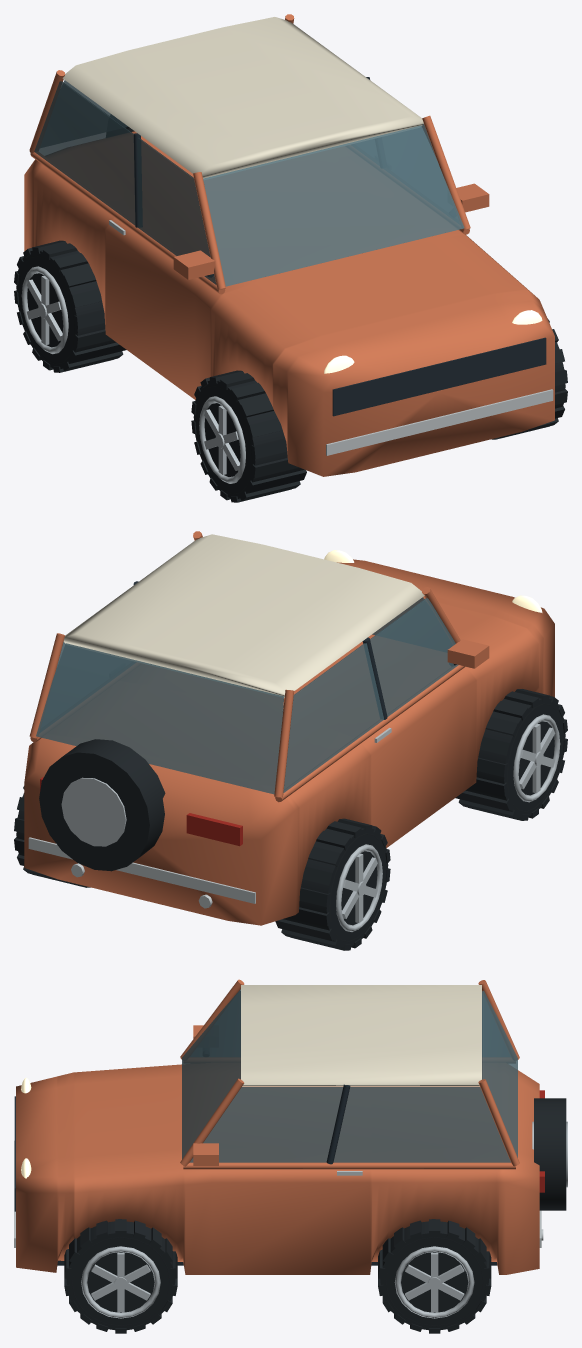
File: bronco.glb
3 renders of one model, top to bottom at view 1: azimuth 30°, elevation 25°; view 2: azimuth 150°, elevation 25°; view 3: azimuth 270°, elevation 25°, orthographic. The views are drawn at different scales.
Parts seen in each view (by area): view 1: exterior-paint, windows, secondary-paint, tire-front-left, tire-rear-left, black-trim, chrome, rim-front-left, rim-rear-left, tire-front-right, headlights; view 2: exterior-paint, windows, secondary-paint, rubber, tire-rear-left, tire-front-left, rims, chrome, rim-rear-left, rim-front-left, taillights, tire-rear-right (+1 smaller); view 3: exterior-paint, windows, secondary-paint, tire-front-right, tire-rear-right, rubber, rim-front-right, rim-rear-right, black-trim.
Part boxes in pixels (x1,y1,x2,y2): exterior-paint: (24, 14, 554, 476); windows: (34, 80, 464, 286); secondary-paint: (62, 17, 423, 179); tire-front-left: (191, 370, 306, 502); tire-rear-left: (14, 240, 126, 372); black-trim: (133, 77, 546, 416); chrome: (109, 220, 553, 455); rim-front-left: (199, 396, 245, 483); rim-rear-left: (21, 266, 68, 354); tire-front-right: (492, 318, 567, 439); headlights: (324, 310, 542, 373); exterior-paint: (24, 531, 554, 925); windows: (36, 597, 458, 794); secondary-paint: (63, 534, 424, 697); rubber: (39, 739, 165, 871); tire-rear-left: (275, 818, 390, 950); tire-front-left: (455, 689, 567, 820); rims: (61, 777, 126, 846); chrome: (28, 728, 391, 908); rim-rear-left: (336, 844, 382, 931); rim-front-left: (513, 714, 560, 802); taillights: (40, 777, 242, 846); tire-rear-right: (14, 786, 90, 887); exterior-paint: (16, 979, 539, 1274); windows: (182, 989, 517, 1162); secondary-paint: (241, 985, 481, 1086); tire-front-right: (64, 1219, 177, 1333); tire-rear-right: (378, 1219, 491, 1333); rubber: (534, 1098, 566, 1210); rim-front-right: (81, 1246, 160, 1318); rim-rear-right: (394, 1246, 474, 1318); black-trim: (14, 1054, 497, 1265).
Bounding box in the file's own units: 2.02 × 1.64 × 3.43.
